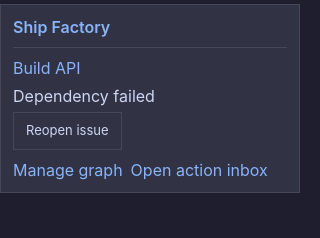
Scenario: Factory human action cards › shows server rejection and permits a retry
The image size is (320, 238).
Click the button "Reopen issue": (67, 131) [13, 112, 122, 150]
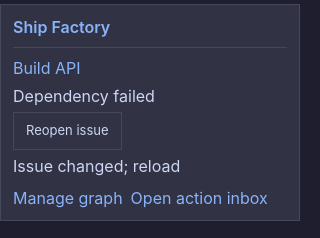
Expected: the message reads "Issue changed; reload", [13, 156, 180, 176]
Click the button "Reopen issue": (67, 131) [13, 112, 122, 150]
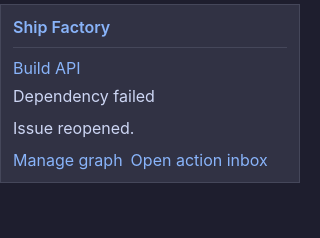
Expected: the text "Issue reopened." is shown, [13, 118, 134, 138]
